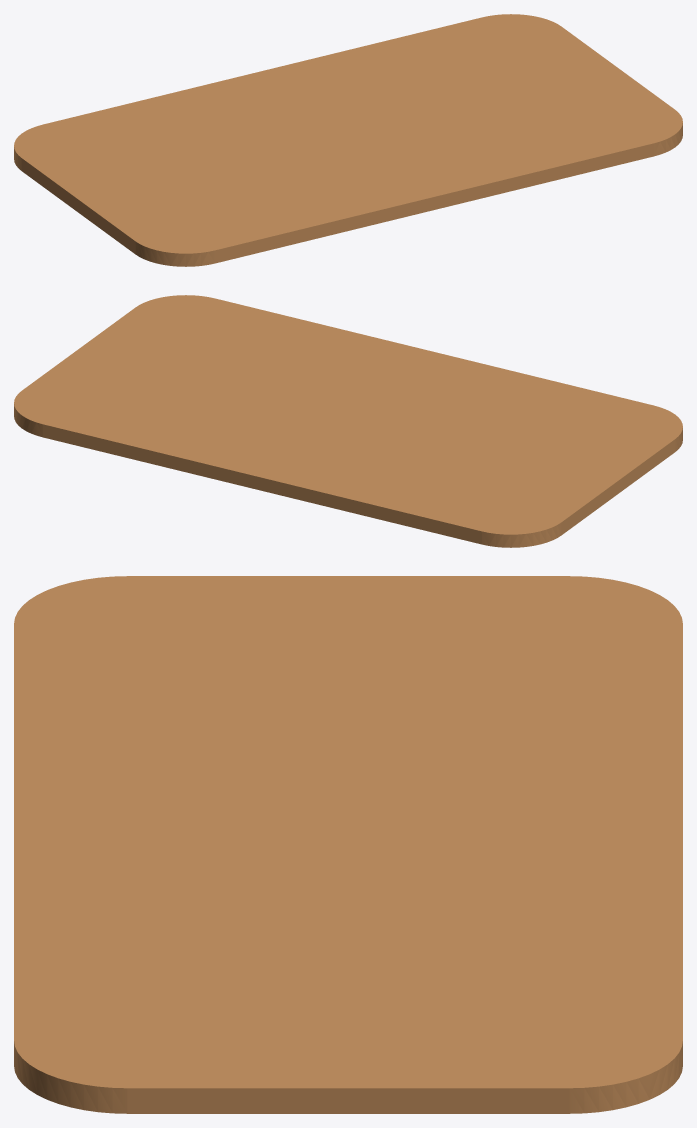
The model's file is kitRugDoormat.glb.
The picture shows the model from 3 angles, top to bottom: view 1: azimuth 30°, elevation 25°; view 2: azimuth 150°, elevation 25°; view 3: azimuth 270°, elevation 25°; orthographic projection. The views are drawn at different scales.
Parts seen in each view (by area): view 1: kitRugDoormat_wood; view 2: kitRugDoormat_wood; view 3: kitRugDoormat_wood.
Part boxes in pixels (left/top/right/bottom): kitRugDoormat_wood: left=14, top=14, right=682, bottom=266; kitRugDoormat_wood: left=14, top=295, right=682, bottom=547; kitRugDoormat_wood: left=14, top=576, right=682, bottom=1113.
Bounding box in the file's own units: 0.8586 × 0.02 × 0.474.
